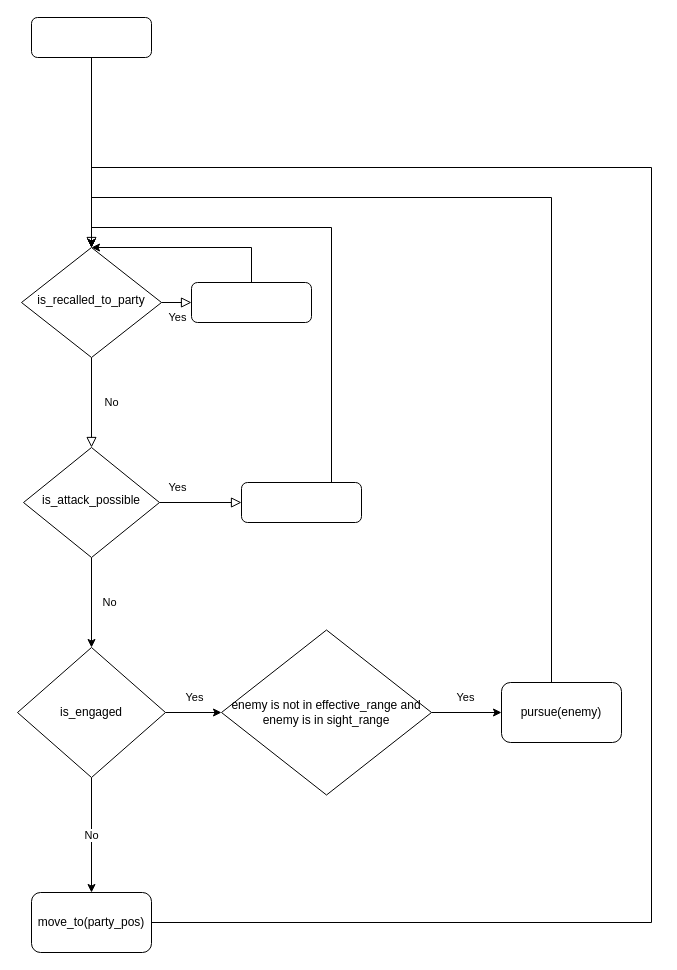
Image size: 677x970. Some labels were removed from this diagram. The shapes that lost their labels are listed below. From the top down, each one's centre as x and y in pixels, then its label:
At (91,37): "Actor is spawned".
At (251,302): "disengage()".
At (301,502): "attack(enemy)".
